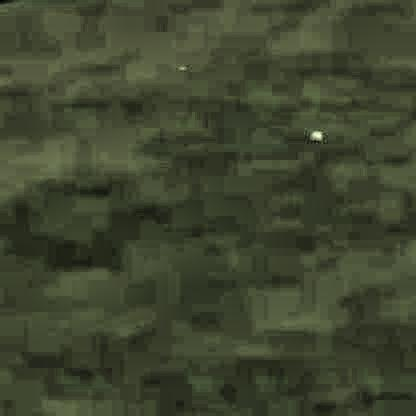golfball: (306, 125, 322, 141)
